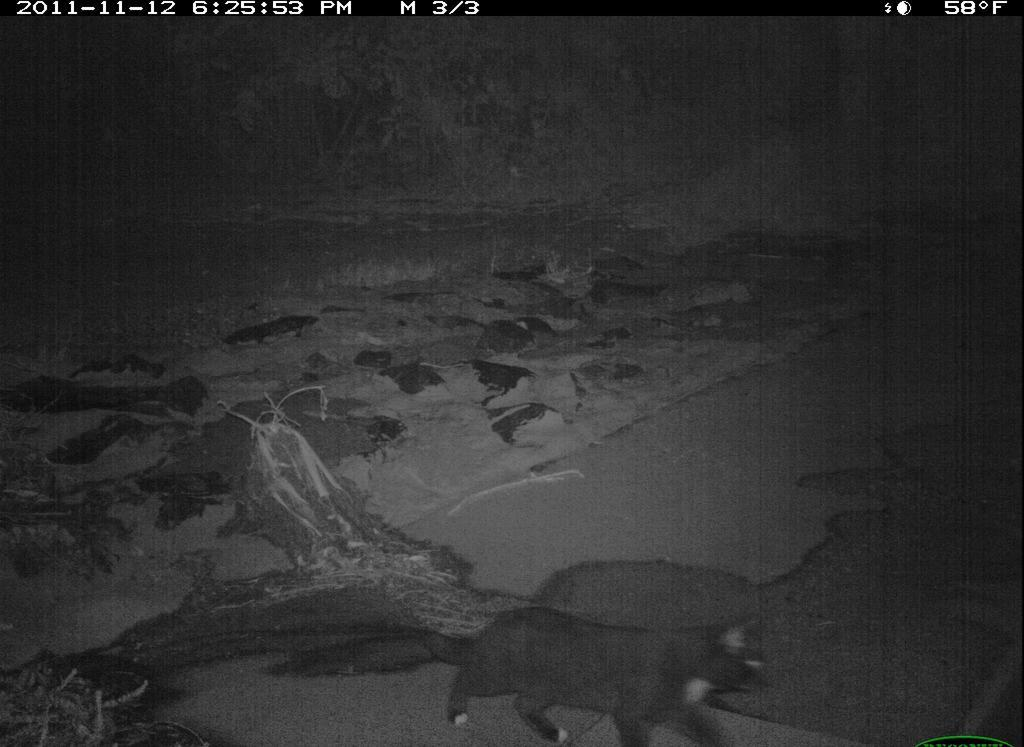cat: (401, 570, 785, 747)
